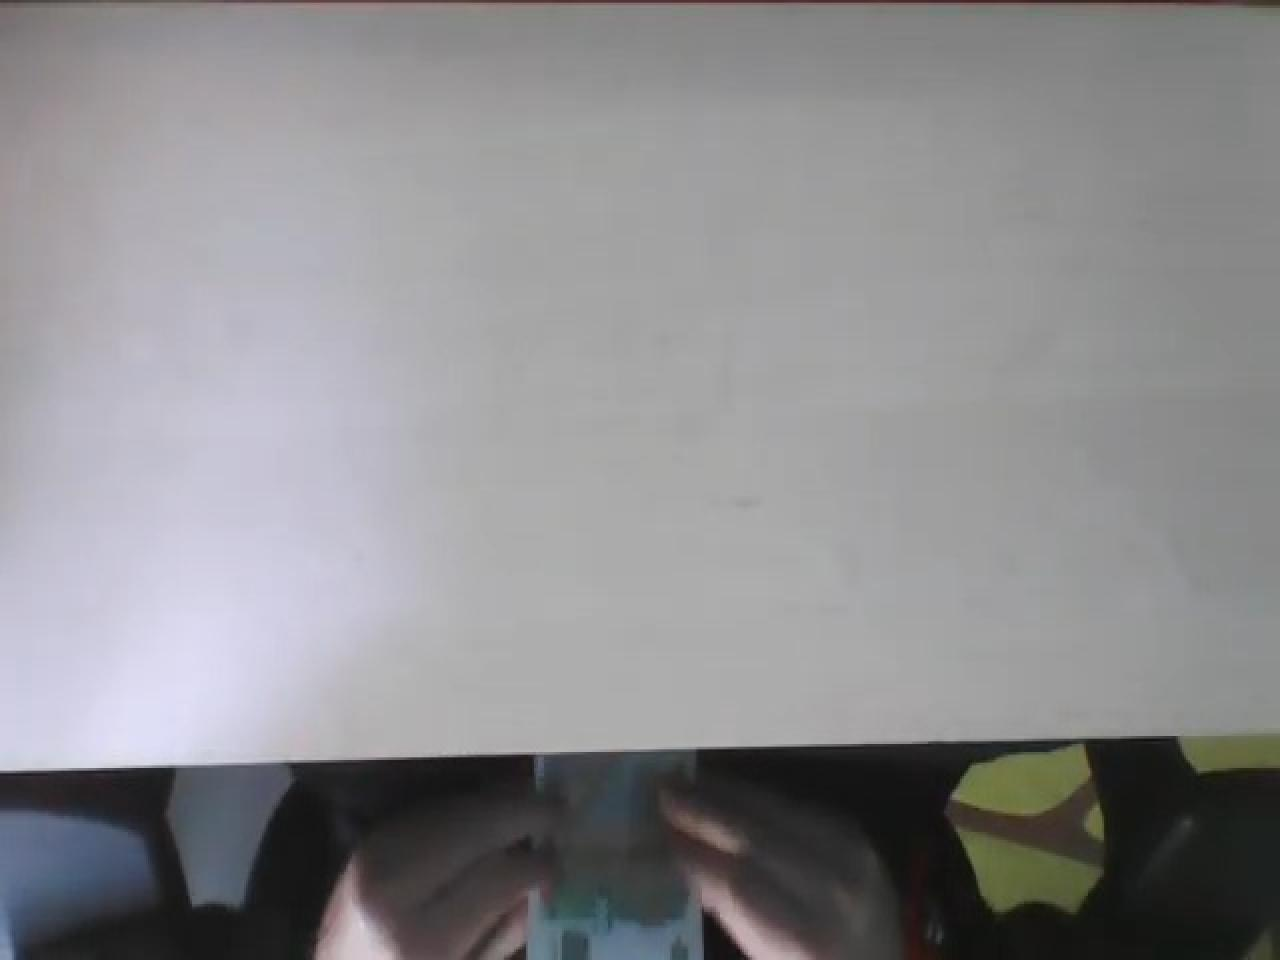100leva: (522, 752, 706, 960)
